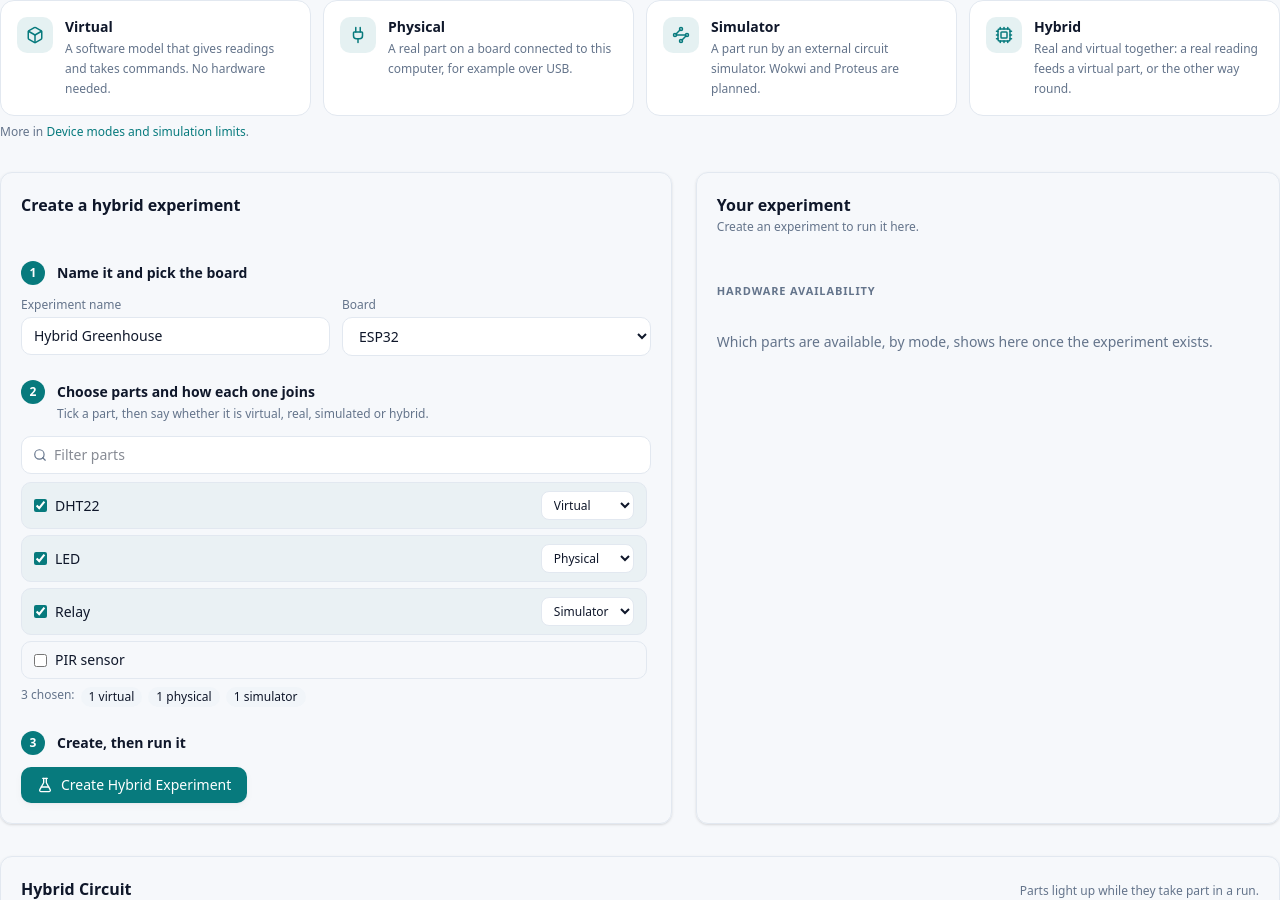
Scenario: HybridPanel › shows a plain message, without technical details, when something fails
Click the button "Create Hybrid Experiment" at (134, 785), box 21,767 -> 247,803
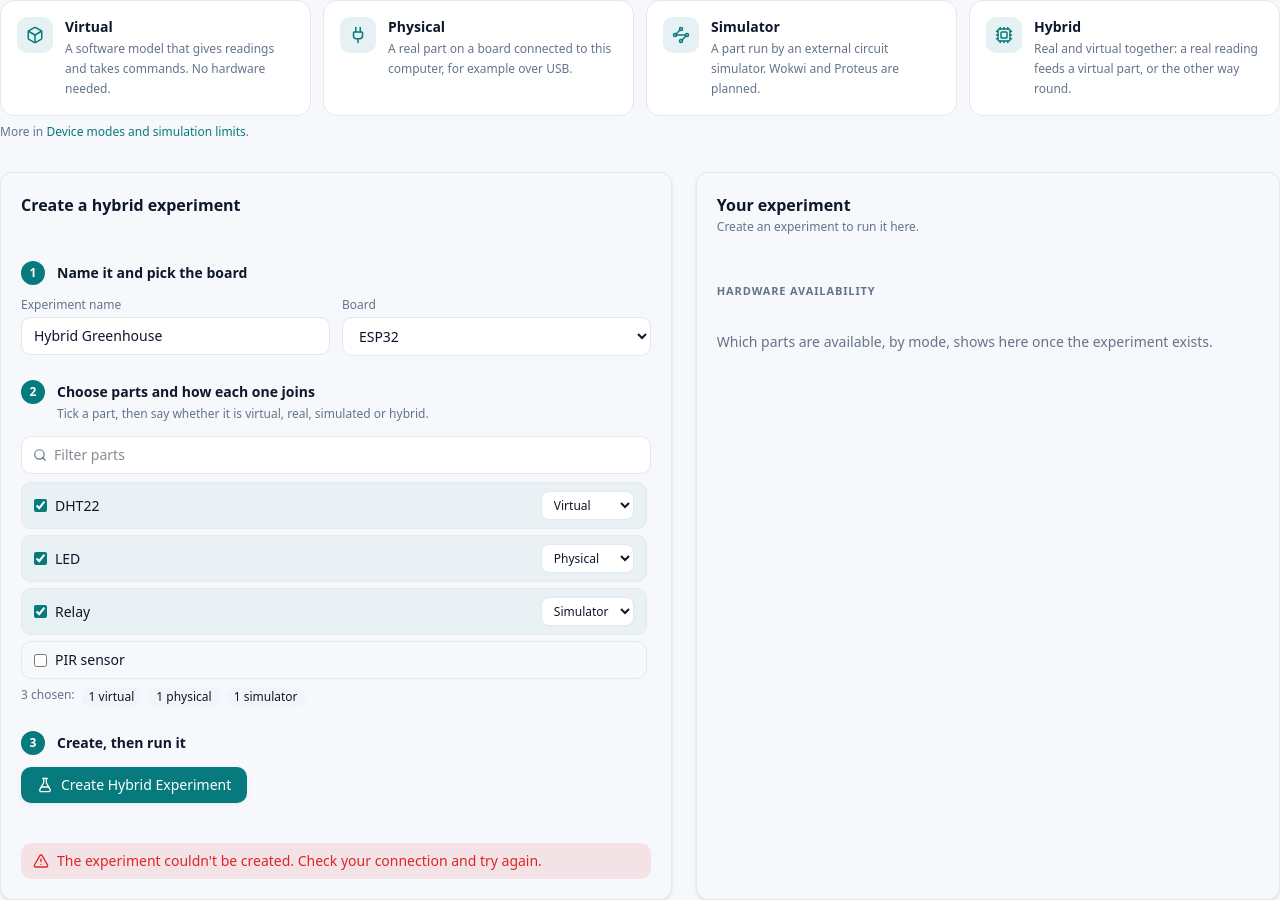
Check: the message reads "The experiment couldn't be created. Check your connection and try again.", box 57,851 -> 542,870
